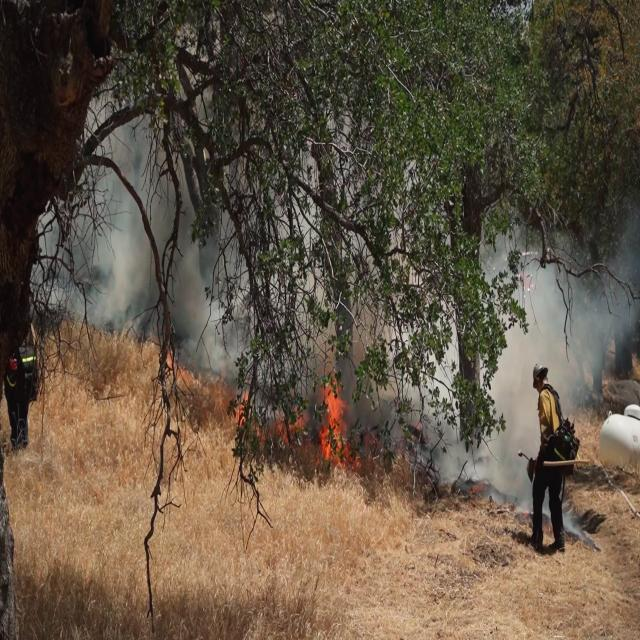Fire: (316, 384, 352, 458)
Smoke: (71, 145, 229, 374), (514, 254, 640, 414)
